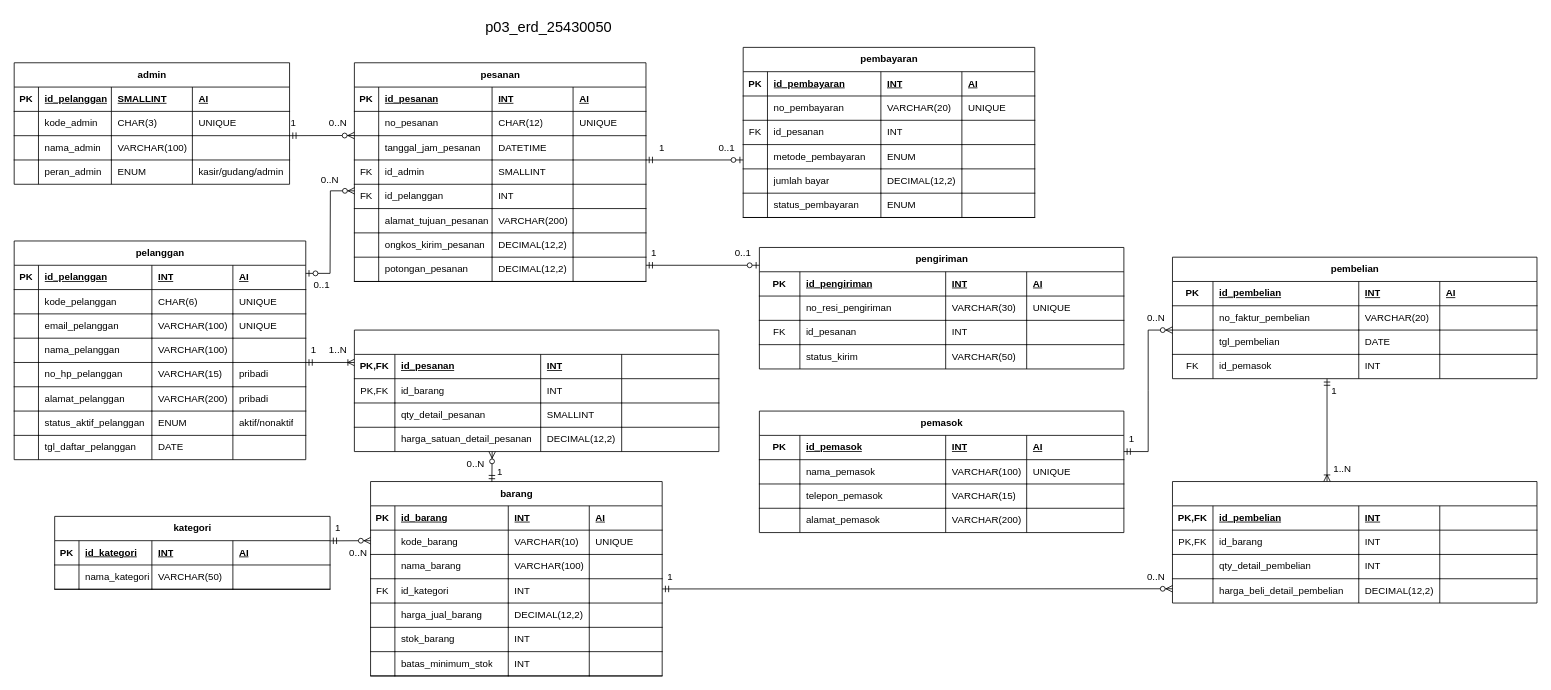
Some shapes in this 1551 by 690 pixel diagram are drawn without their labels. The shapes that lost their labels are listed below. From the top down, each one's box as (x1, y1, x2, y2) in pixels, then its label:
(354, 329, 719, 452): detail_pesanan (asosiatif)
(1172, 481, 1537, 603): detail_pembelian (asosiatif)
